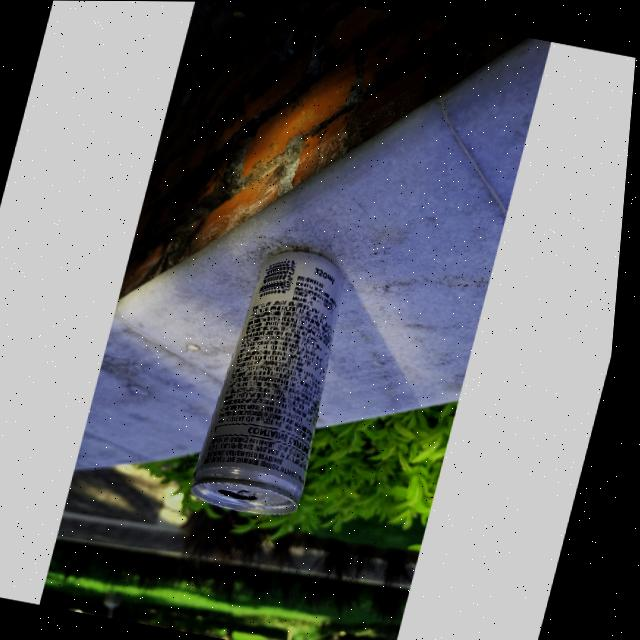Redbull Summer Edition: (185, 229, 375, 524)
